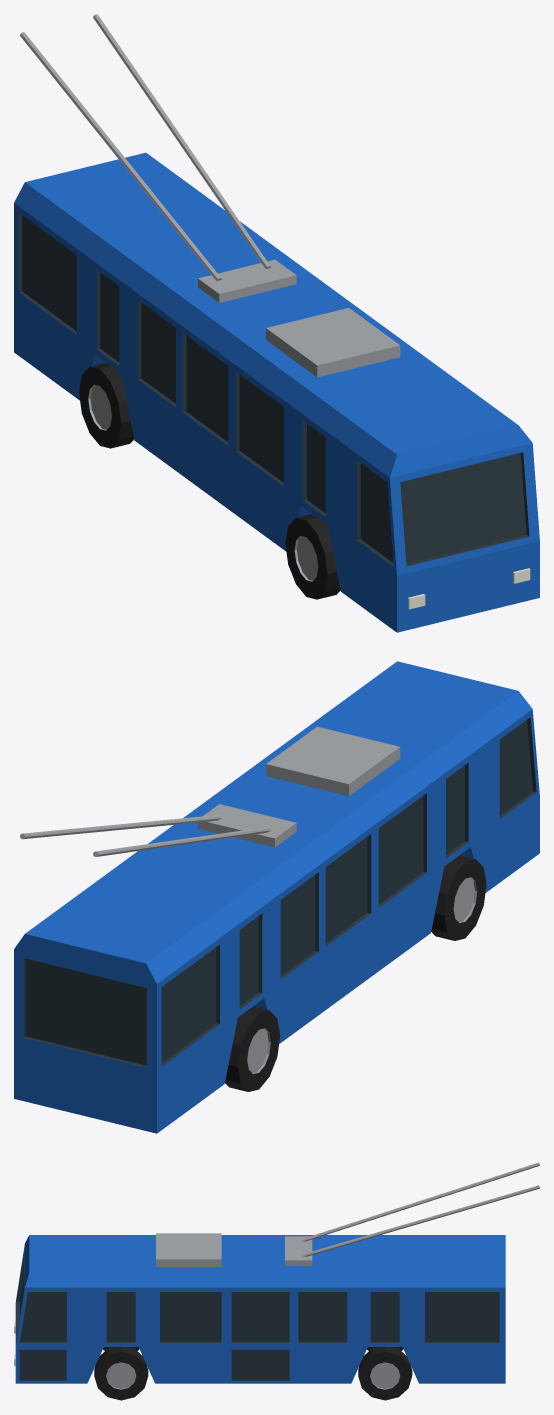
File: maqueta_trolebus.fbx
3 renders of one model, top to bottom at view 1: azimuth 30°, elevation 25°; view 2: azimuth 150°, elevation 25°; view 3: azimuth 270°, elevation 25°, orthographic. The views are drawn at different scales.
Visible parts, largest first — view 1: maqueta_trolebus; view 2: maqueta_trolebus; view 3: maqueta_trolebus.
Boxes of the visible parts, <box> form: maqueta_trolebus: <box>14,14,539,632</box>; maqueta_trolebus: <box>14,661,539,1133</box>; maqueta_trolebus: <box>14,1162,539,1400</box>.
Bounding box in the file's own units: 0.1786 × 0.3387 × 0.8.
